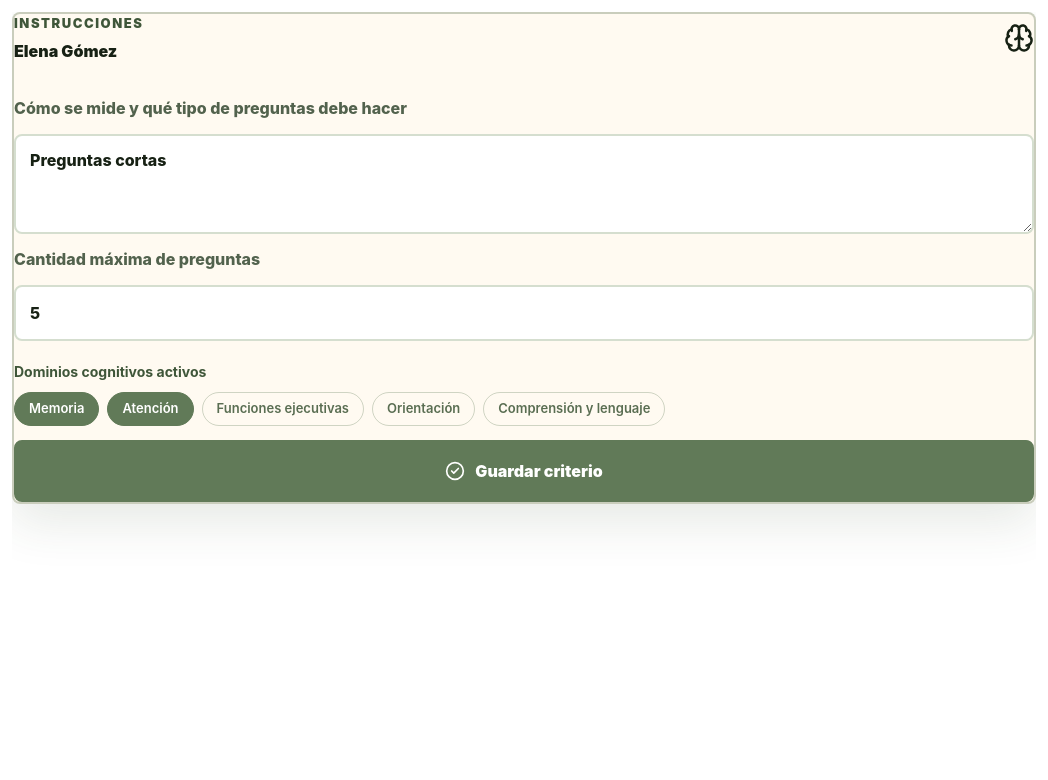
Test case: AiConfigPanel › cantidad fuera de rango → error
Replace the text in the number field labelled "Cantidad máxima de preguntas" with "11" at (524,313), box [14, 285, 1034, 341]
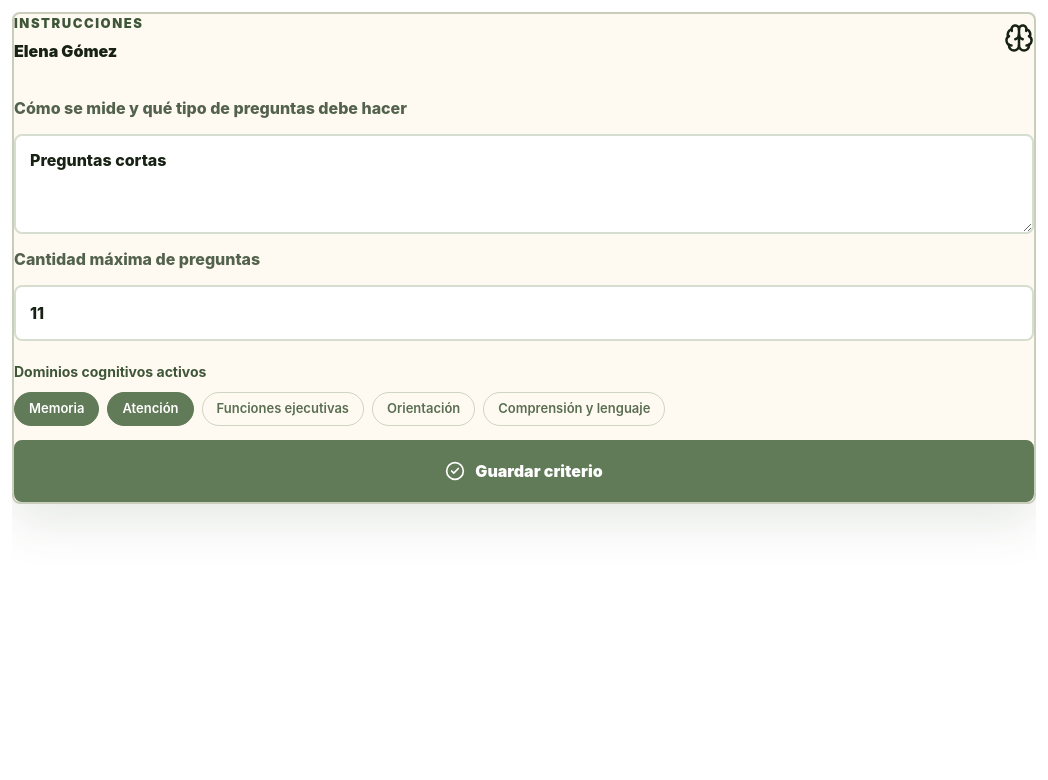
Click the button "Guardar criterio" at (524,471), box [14, 440, 1034, 502]
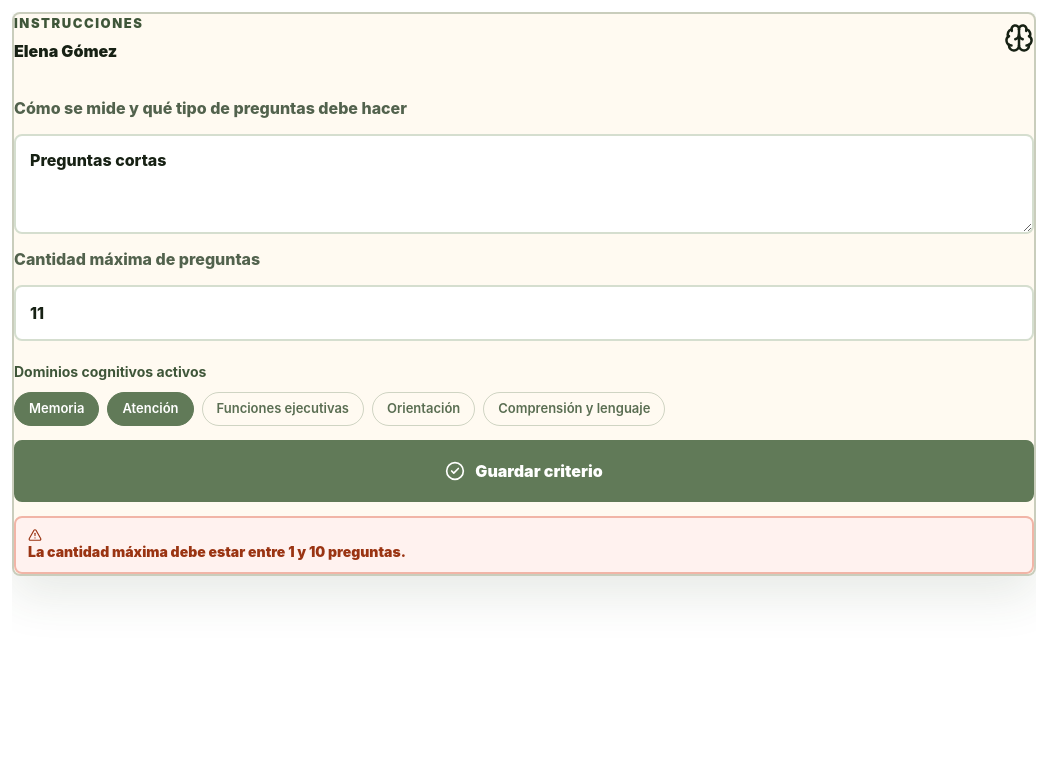
Expected: the message shows "entre 1 y 10", [28, 543, 406, 560]
